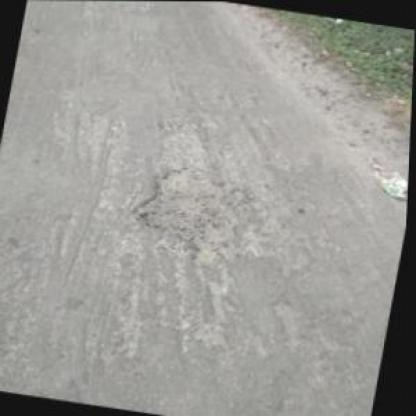pothole: (133, 161, 266, 251)
